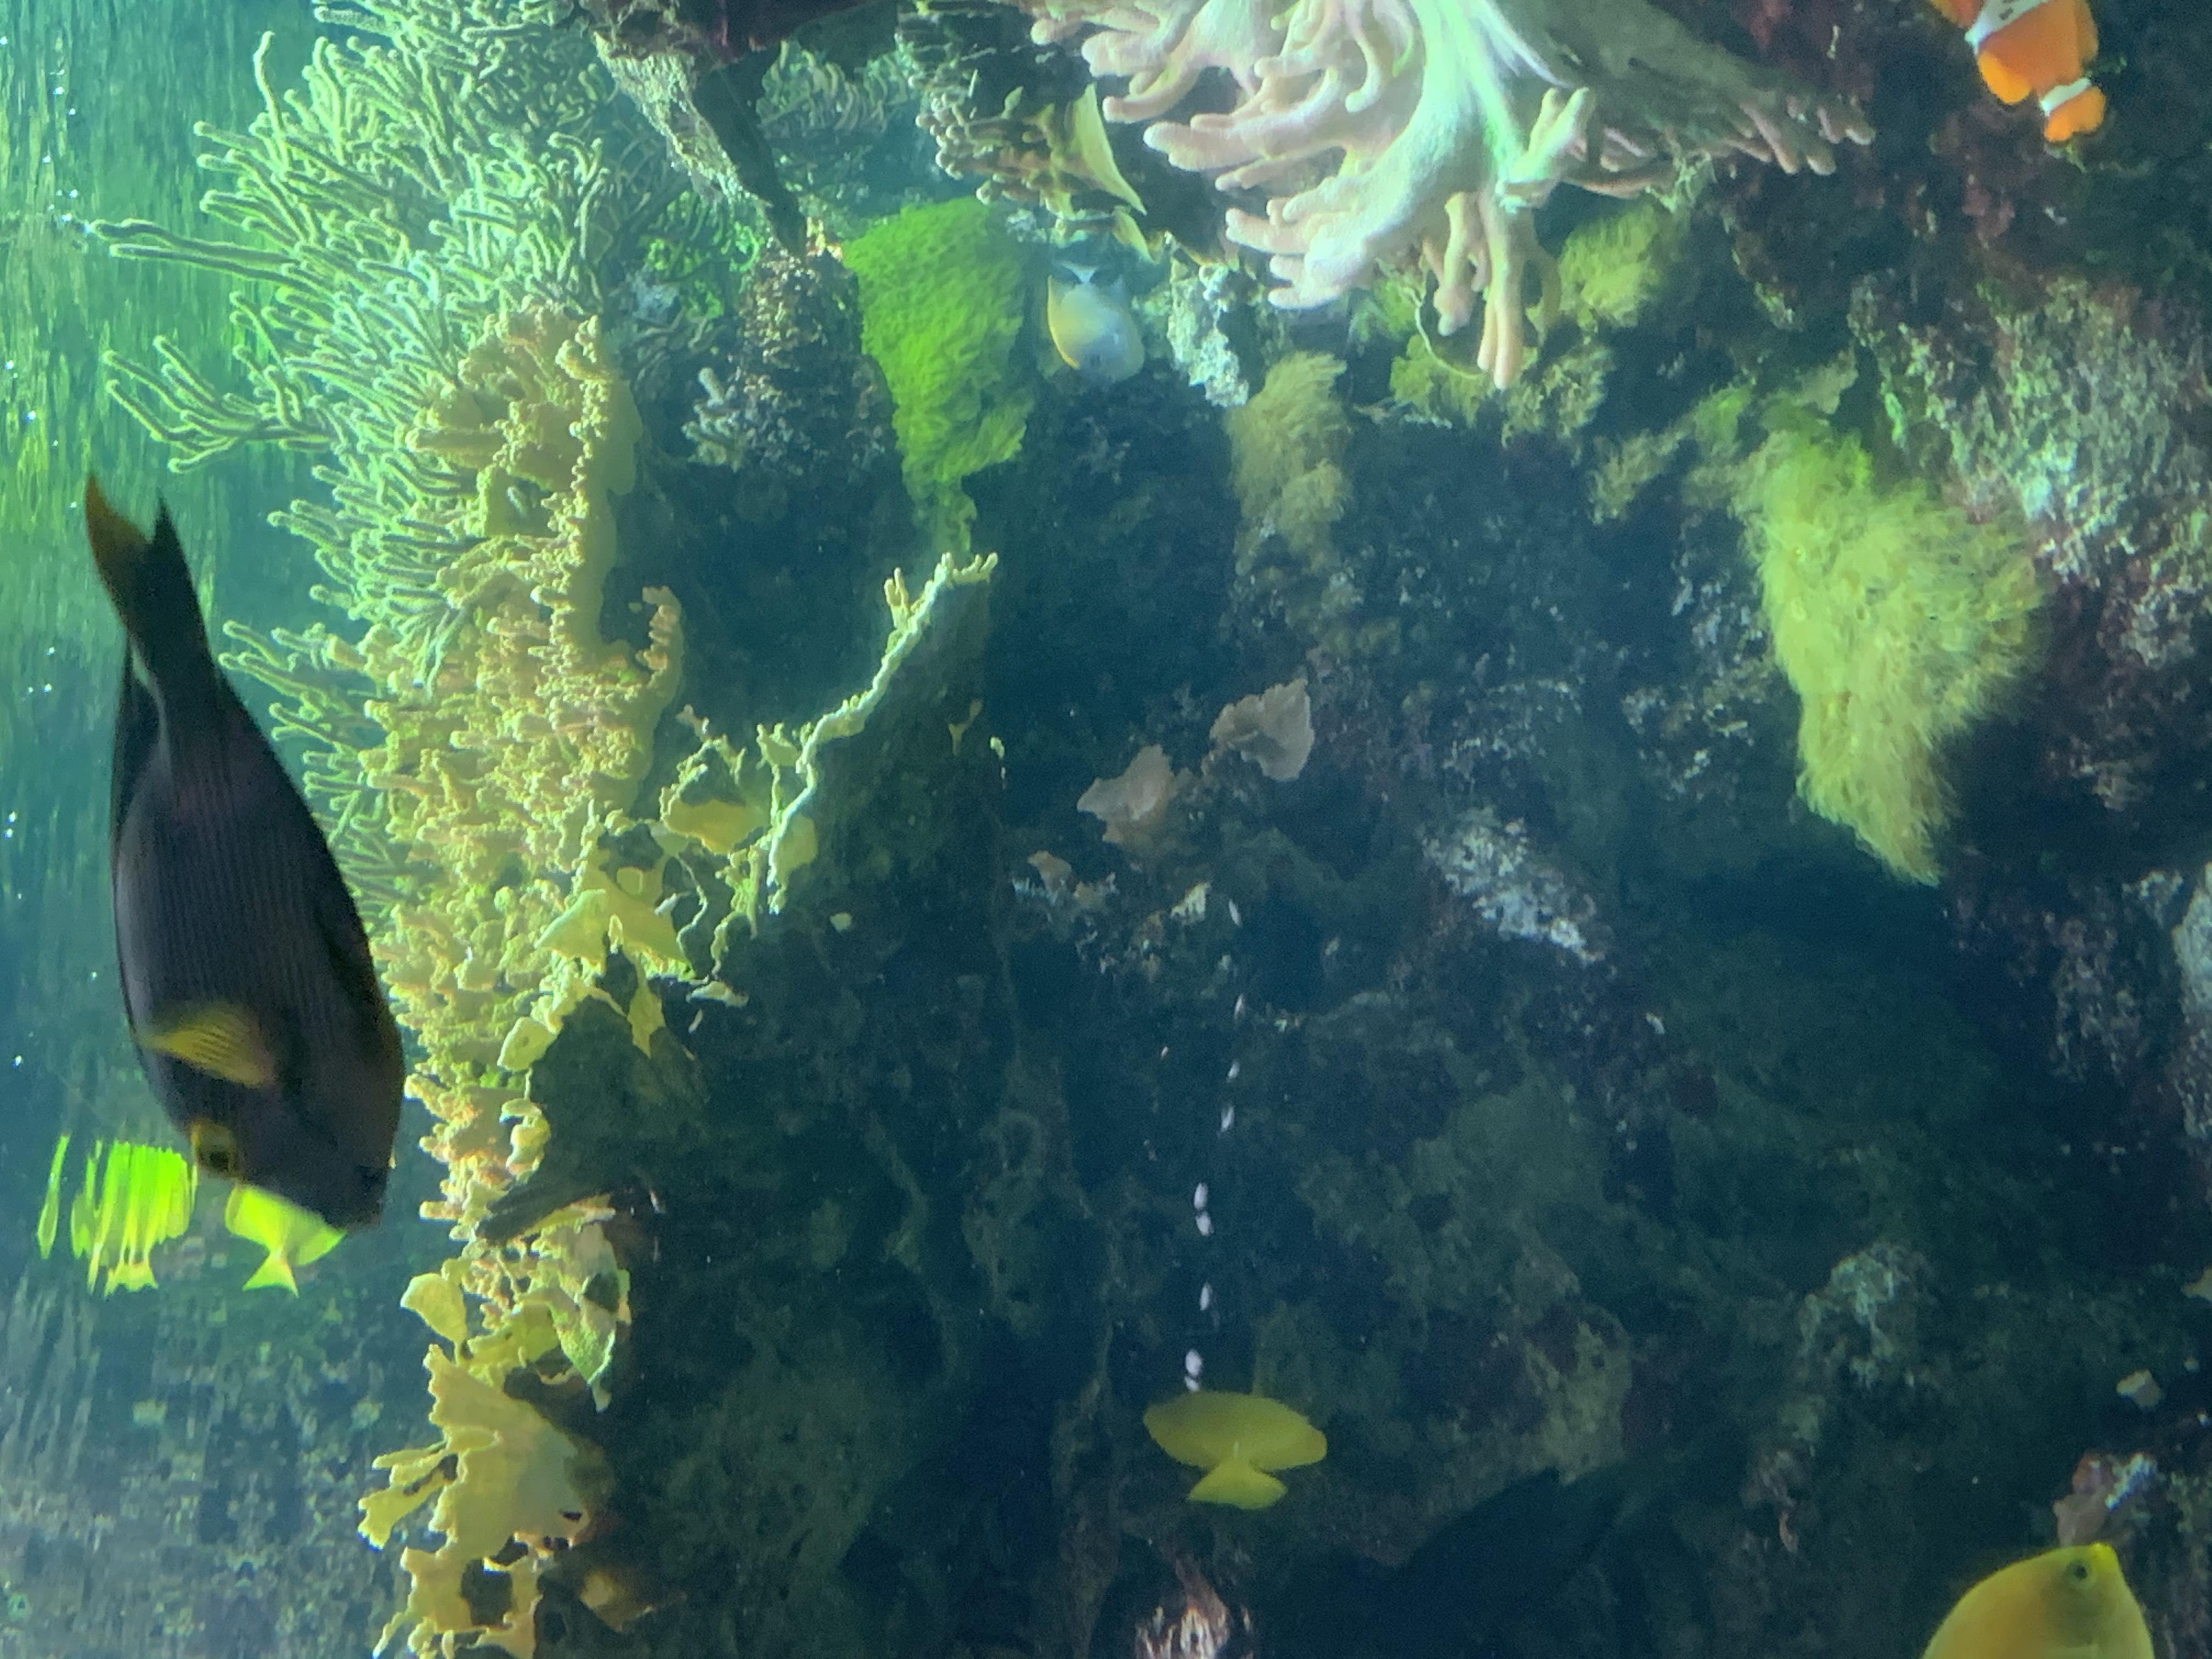fish: (63, 471, 413, 1243), (1919, 1532, 2161, 1659), (1928, 0, 2114, 146), (1143, 1387, 1325, 1513), (219, 1147, 366, 1295), (1042, 254, 1158, 392)
